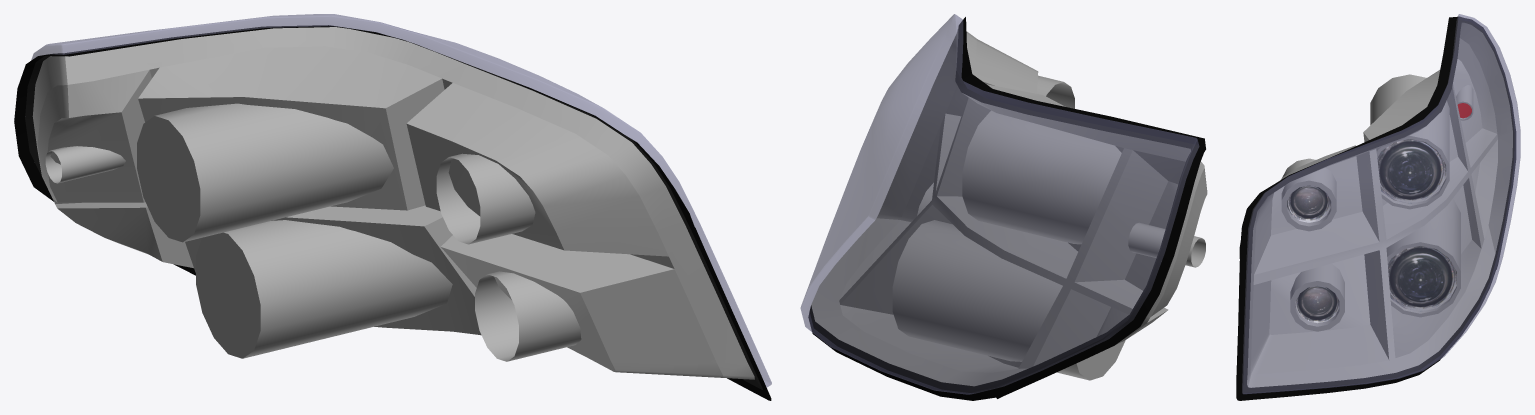
3 renders of one model, left to right at view 1: azimuth 30°, elevation 25°; view 2: azimuth 150°, elevation 25°; view 3: azimuth 270°, elevation 25°, orthographic. The views are drawn at different scales.
Parts seen in each view (by area): view 1: H712_061B_L_H712_061B_L_2_DaS, H712_061B_L_H712_061B_L_8_DTaSI, H712_061B_L_9_D_H712_061B_L, H712_061B_L_H712_061B_L_3_D; view 2: H712_061B_L_H712_061B_L_8_DTaSI, H712_061B_L_H712_061B_L_2_DaS, H712_061B_L_9_D_H712_061B_L, H712_061B_L_H712_061B_L_3_D; view 3: H712_061B_L_H712_061B_L_8_DTaSI, H712_061B_L_H712_061B_L_2_DaS, H712_061B_L_9_D_H712_061B_L, H712_061B_L_H712_061B_L_3_D, H712_061B_L_H712_061B_L_6_N, H712_061B_L_H712_061B_L_7_N, H712_061B_L_H712_061B_L_4_N, H712_061B_L_H712_061B_L_5_N.
Part boxes in pixels (x1,y1,x2,y2): H712_061B_L_H712_061B_L_2_DaS: (32, 27, 754, 379); H712_061B_L_H712_061B_L_8_DTaSI: (31, 14, 771, 387); H712_061B_L_9_D_H712_061B_L: (14, 26, 771, 400); H712_061B_L_H712_061B_L_3_D: (25, 25, 762, 389); H712_061B_L_H712_061B_L_8_DTaSI: (800, 14, 1199, 394); H712_061B_L_H712_061B_L_2_DaS: (811, 27, 1207, 386); H712_061B_L_9_D_H712_061B_L: (808, 17, 1205, 400); H712_061B_L_H712_061B_L_3_D: (809, 20, 1199, 393); H712_061B_L_H712_061B_L_8_DTaSI: (1242, 14, 1520, 394); H712_061B_L_H712_061B_L_2_DaS: (1247, 22, 1512, 387); H712_061B_L_9_D_H712_061B_L: (1236, 16, 1515, 400); H712_061B_L_H712_061B_L_3_D: (1242, 19, 1514, 393); H712_061B_L_H712_061B_L_6_N: (1388, 246, 1456, 311); H712_061B_L_H712_061B_L_7_N: (1377, 139, 1446, 203); H712_061B_L_H712_061B_L_4_N: (1287, 185, 1331, 222); H712_061B_L_H712_061B_L_5_N: (1295, 286, 1339, 322).
Bounding box in the file's own units: 41.94 × 25.89 × 29.75.
